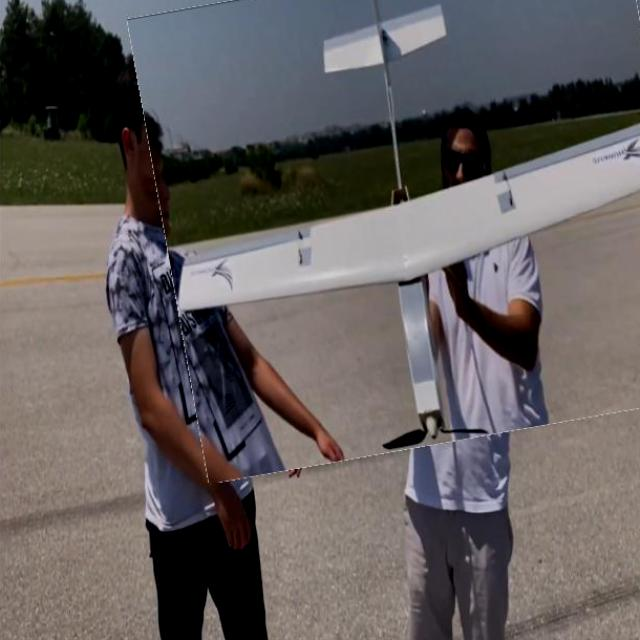plane: (126, 0, 640, 485)
